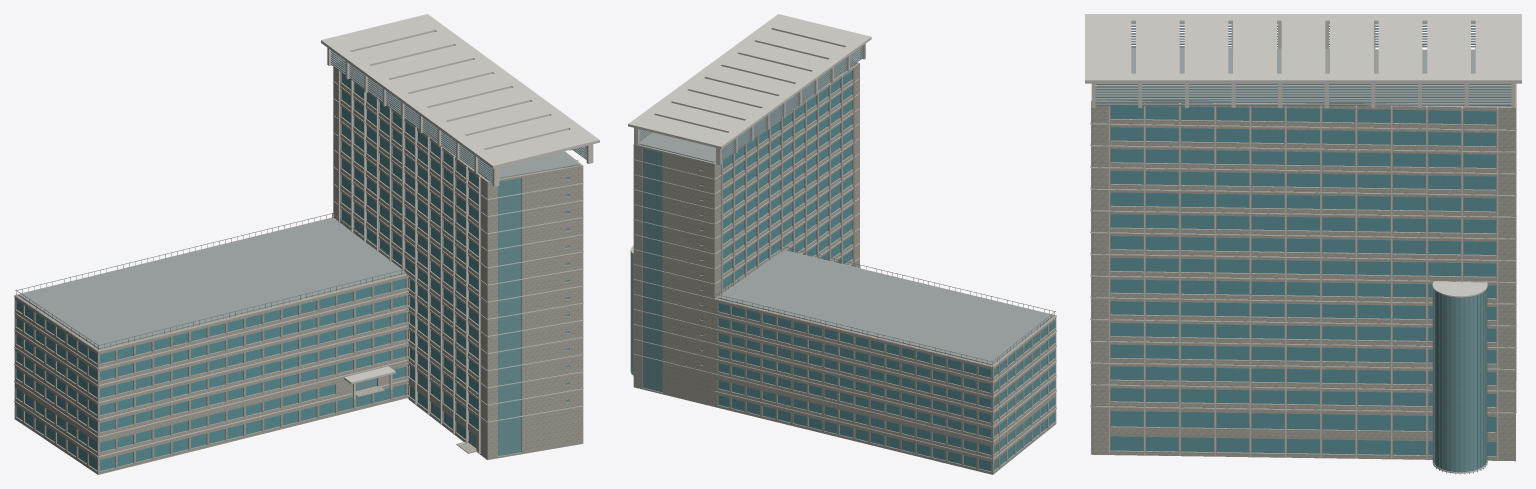
The picture shows the model from 3 angles, left to right: view 1: azimuth 30°, elevation 25°; view 2: azimuth 150°, elevation 25°; view 3: azimuth 270°, elevation 25°; orthographic projection. The views are drawn at different scales.
Parts seen in each view (by area): view 1: hitech__stone, hitech__glass, hitech__roof, hitech__crown-cap, hitech__trim, hitech__frame, hitech__sideglass, hitech__crown-louver, hitech__crown-fin; view 2: hitech__stone, hitech__glass, hitech__roof, hitech__crown-cap, hitech__trim, hitech__frame, hitech__sideglass, hitech__crown-louver, hitech__crown-fin; view 3: hitech__glass, hitech__stone, hitech__crown-cap, hitech__trim, hitech__frame, hitech__sideglass, hitech__crown-louver, hitech__roof, hitech__crown-fin.
Boxes of the visible parts, bbox=[...] form: hitech__stone: bbox=[14, 65, 583, 474]; hitech__glass: bbox=[16, 73, 573, 470]; hitech__roof: bbox=[18, 61, 579, 349]; hitech__crown-cap: bbox=[321, 14, 599, 168]; hitech__trim: bbox=[14, 70, 583, 457]; hitech__frame: bbox=[15, 73, 569, 469]; hitech__sideglass: bbox=[498, 177, 569, 455]; hitech__crown-louver: bbox=[331, 50, 586, 182]; hitech__crown-fin: bbox=[327, 48, 593, 186]; hitech__stone: bbox=[633, 62, 1056, 474]; hitech__glass: bbox=[642, 71, 1054, 471]; hitech__roof: bbox=[639, 60, 1053, 365]; hitech__crown-cap: bbox=[628, 14, 871, 148]; hitech__trim: bbox=[630, 67, 1056, 459]; hitech__frame: bbox=[630, 75, 1055, 469]; hitech__sideglass: bbox=[631, 67, 850, 391]; hitech__crown-louver: bbox=[639, 46, 862, 161]; hitech__crown-fin: bbox=[634, 43, 865, 164]; hitech__glass: bbox=[1111, 105, 1495, 456]; hitech__stone: bbox=[1091, 47, 1515, 461]; hitech__crown-cap: bbox=[1085, 14, 1521, 83]; hitech__trim: bbox=[1090, 47, 1516, 473]; hitech__frame: bbox=[1110, 45, 1496, 474]; hitech__sideglass: bbox=[1433, 289, 1486, 472]; hitech__crown-louver: bbox=[1095, 24, 1511, 105]; hitech__roof: bbox=[1095, 47, 1511, 106]; hitech__crown-fin: bbox=[1091, 24, 1515, 107].
Bounding box in the file's own units: 96.91 × 64.39 × 66.48.
Materials: 7 (1 with a texture image).
